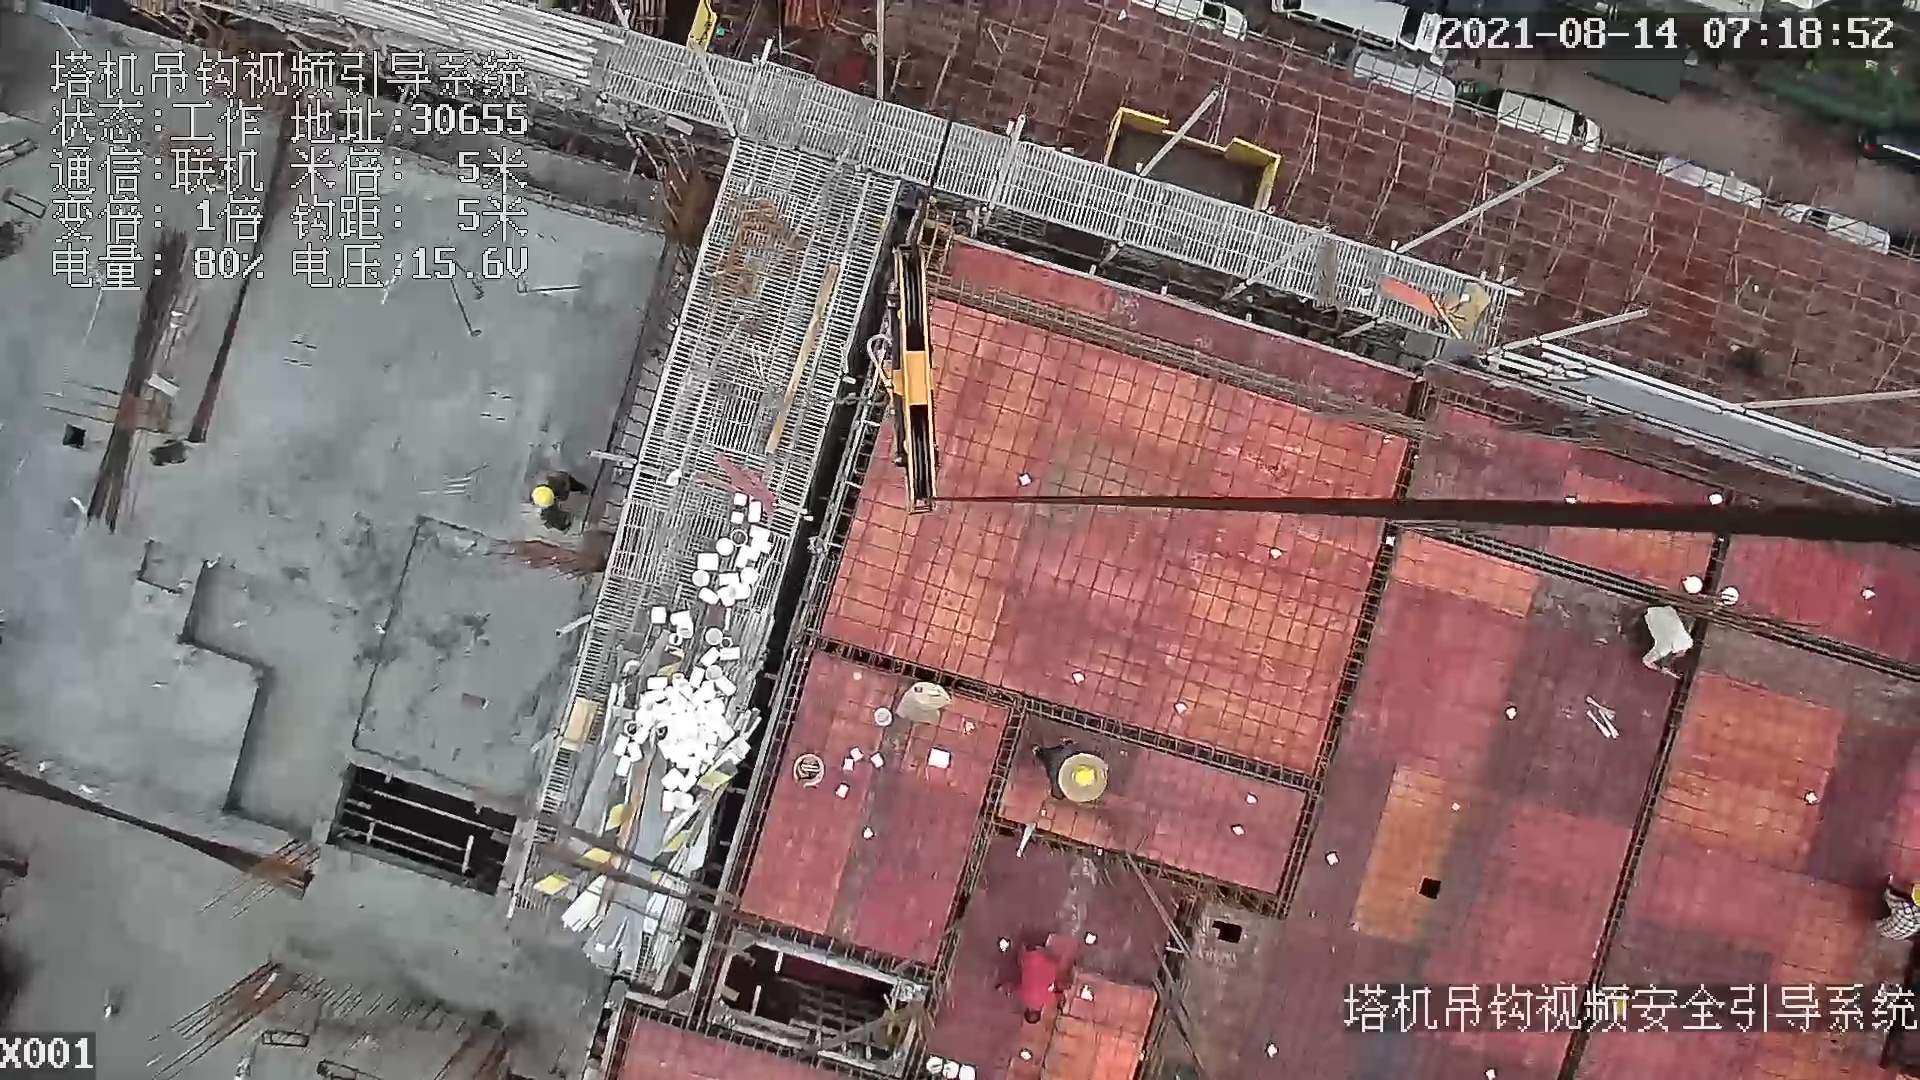helmet: (530, 479, 562, 511), (1071, 767, 1099, 794)
hook: (863, 239, 946, 521)
person: (1003, 936, 1060, 1024), (1037, 740, 1104, 800), (529, 467, 585, 532)
